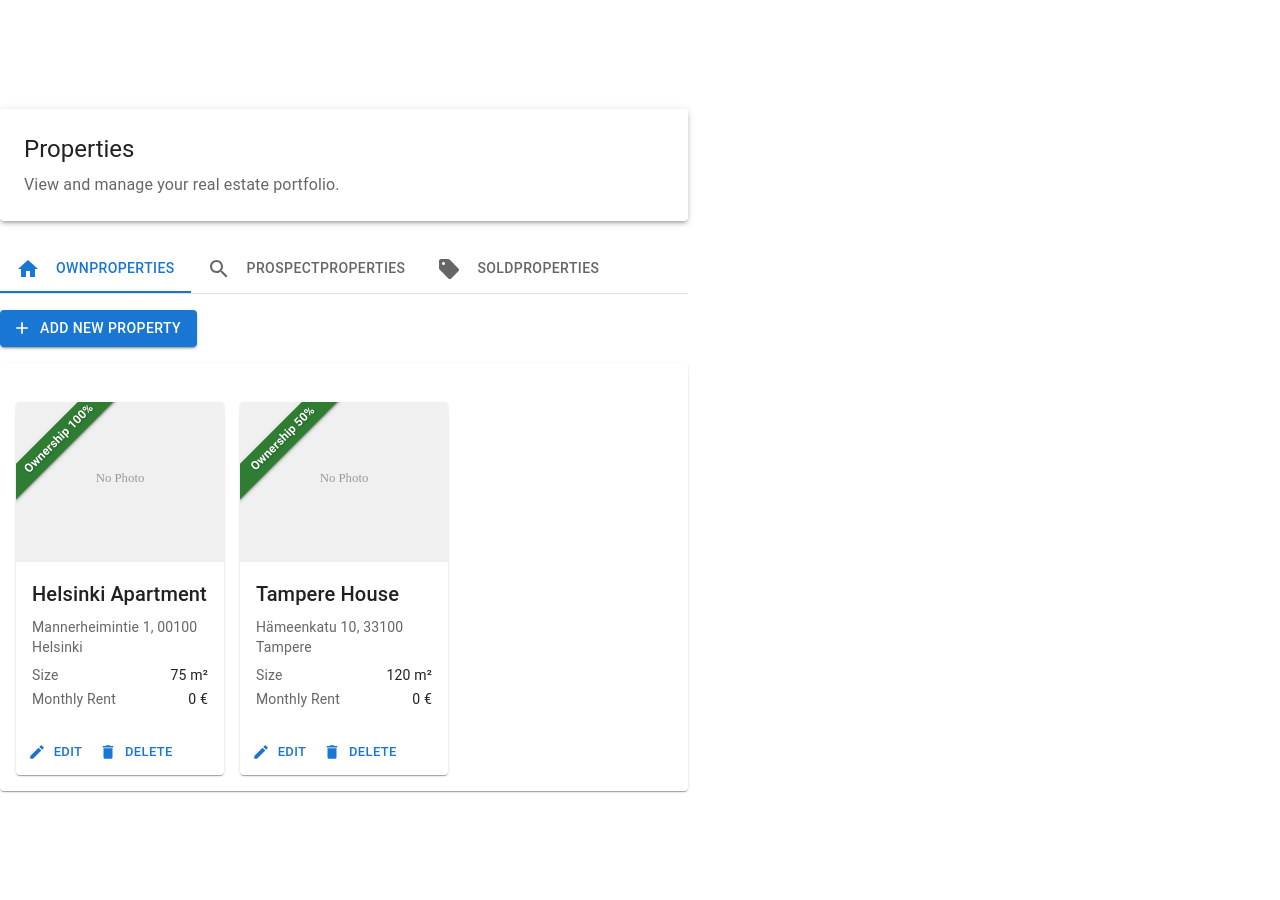
Test case: Properties Integration › Happy path › opens delete confirmation dialog when delete button clicked
This screenshot has width=1280, height=900.
Expected: the text "Helsinki Apartment" is shown, [32,578,208,610]
Click the first delete button
Click the 1st button "Delete" at (137, 752), box [96,737,178,767]
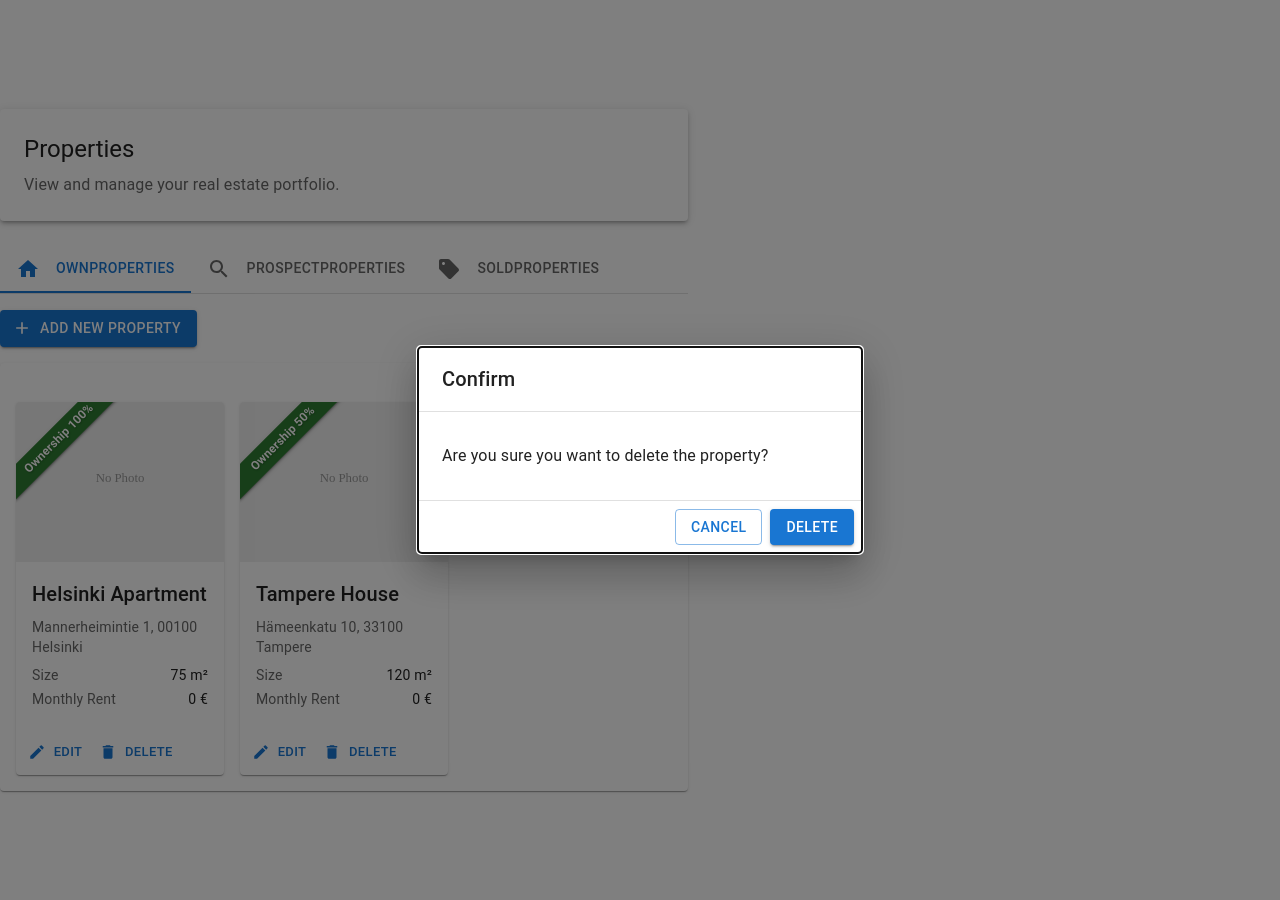
Result: the text "Are you sure you want to delete the property?" is shown at [442,446,768,465]
Result: the button "Cancel" is shown at [675,509,762,545]
Result: the button "Delete" is shown at [770,509,854,545]
